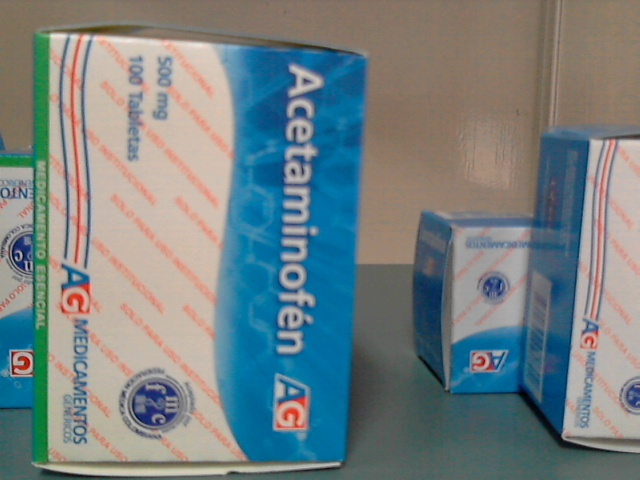AG: (33, 34, 363, 463)
